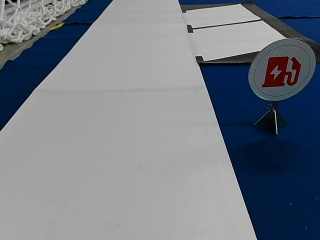battery: (250, 39, 316, 101)
